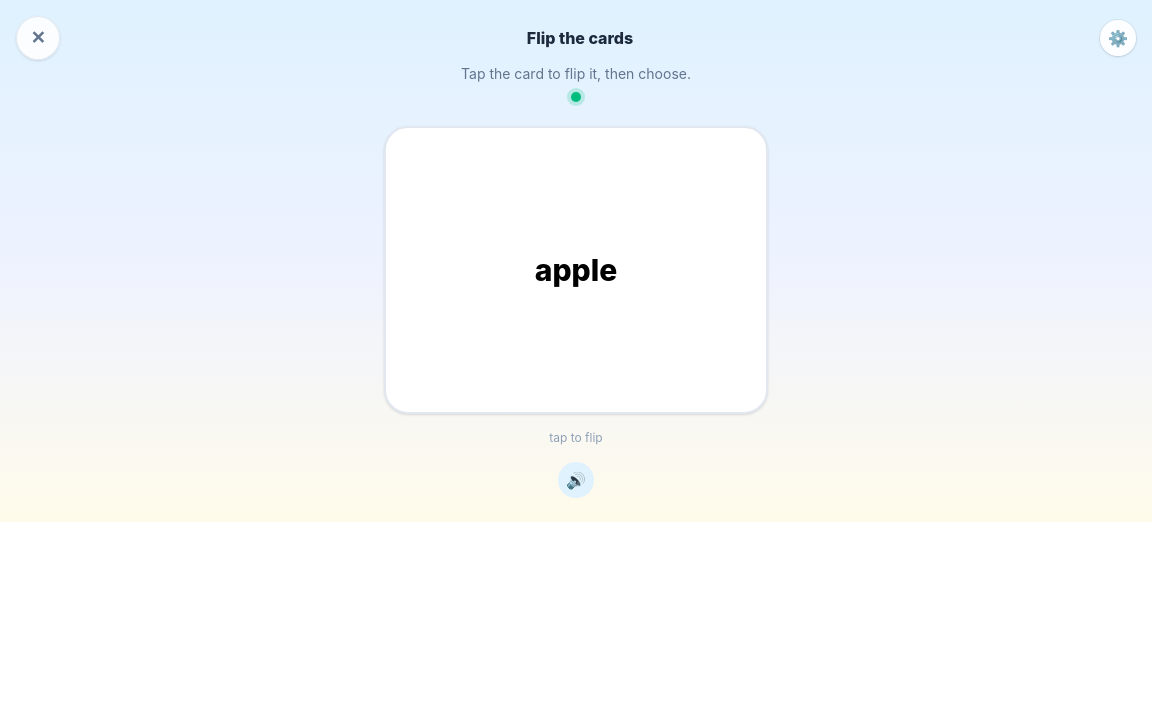
FlashcardScreen › shows the back text when there is no image (unchanged behavior)
Click the button with aria-label "flip card" at (576, 270), box x1=384 y1=126 x2=768 y2=414
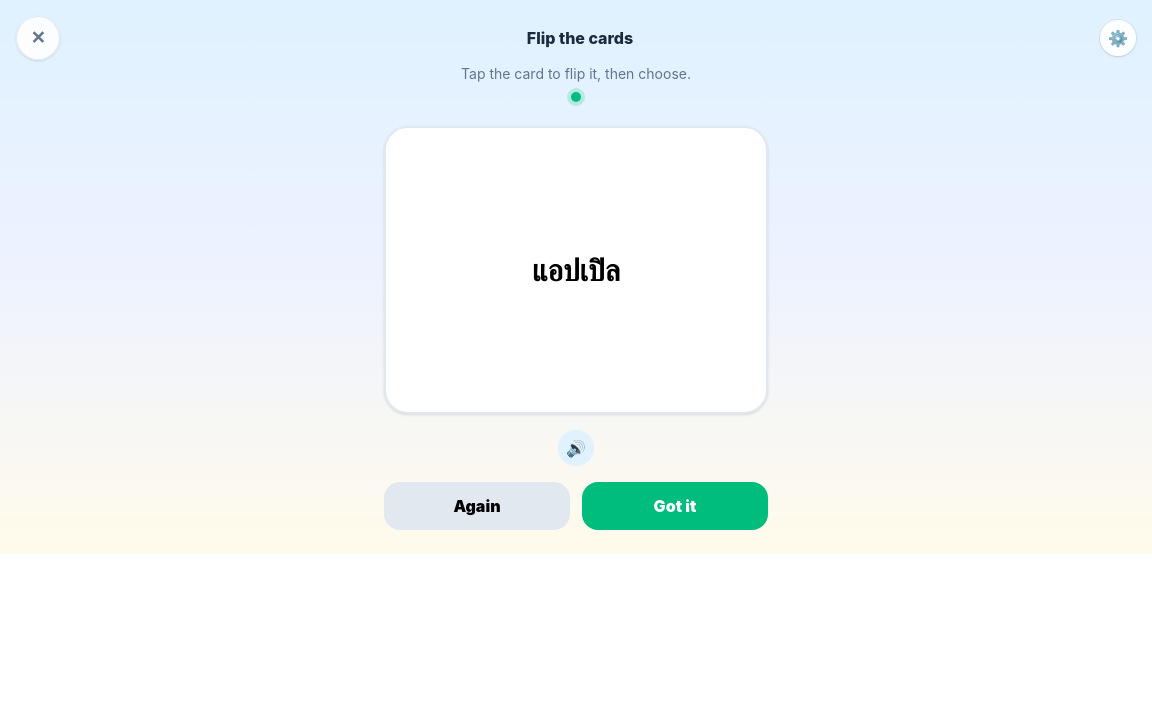
Now the button "แอปเปิล" is shown, box x1=384 y1=126 x2=768 y2=414
